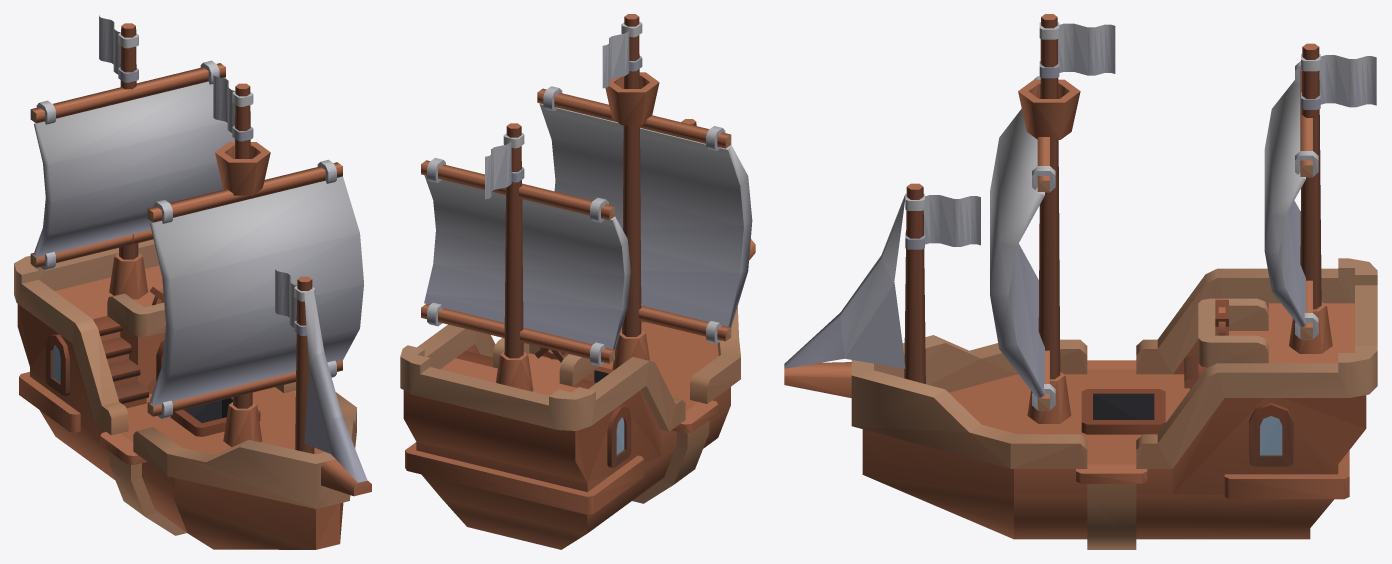
The model's file is watercraft_ship_small.glb.
3 renders of one model, left to right at view 1: azimuth 30°, elevation 25°; view 2: azimuth 150°, elevation 25°; view 3: azimuth 270°, elevation 25°, orthographic. The views are drawn at different scales.
Parts seen in each view (by area): view 1: watercraft_ship_small; view 2: watercraft_ship_small; view 3: watercraft_ship_small.
Boxes of the visible parts, left/top/right/bottom form: watercraft_ship_small: left=14, top=15, right=371, bottom=549; watercraft_ship_small: left=400, top=14, right=755, bottom=549; watercraft_ship_small: left=784, top=14, right=1377, bottom=549.
Bounding box in the file's own units: 4.8 × 9.96 × 10.6.
